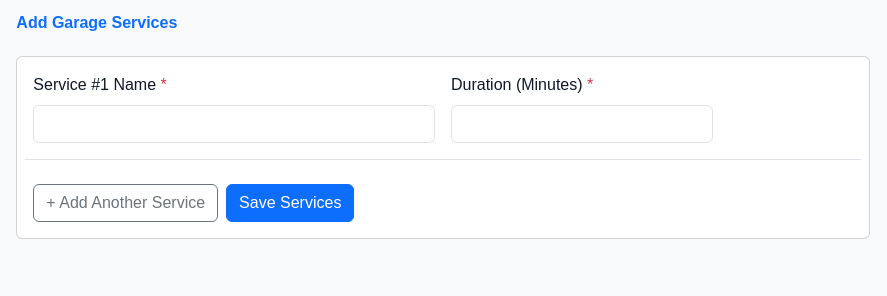
Test case: ServiceManager Component › successfully submits services when fields are valid
In the field: (234, 124) [33, 105, 435, 143], type "Full Service"
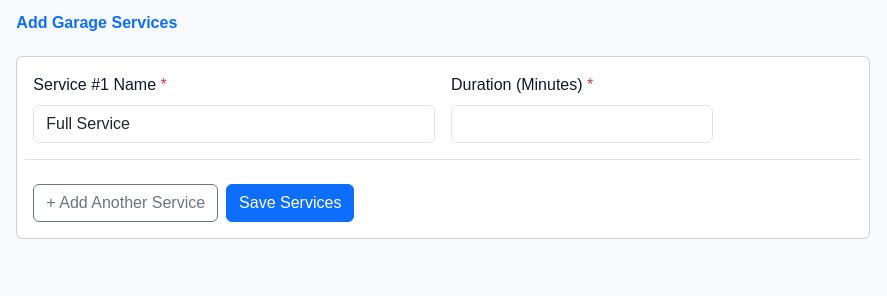
In the number field: (582, 124) [451, 105, 713, 143], type "120"
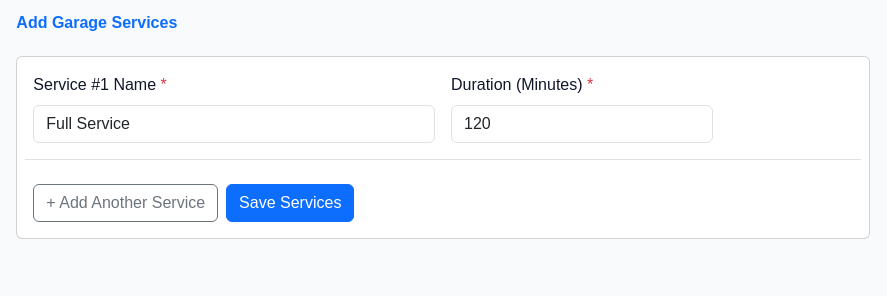
Click the button "Save Services": (290, 203) [226, 184, 354, 222]
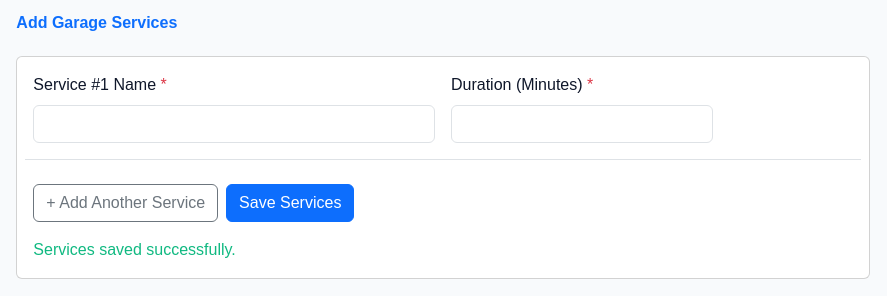
Expected: the text "Services saved successfully." is shown, [33, 241, 236, 258]
